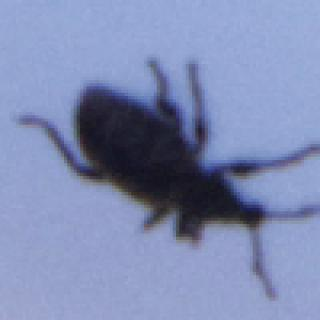bvw: (18, 56, 318, 300)
